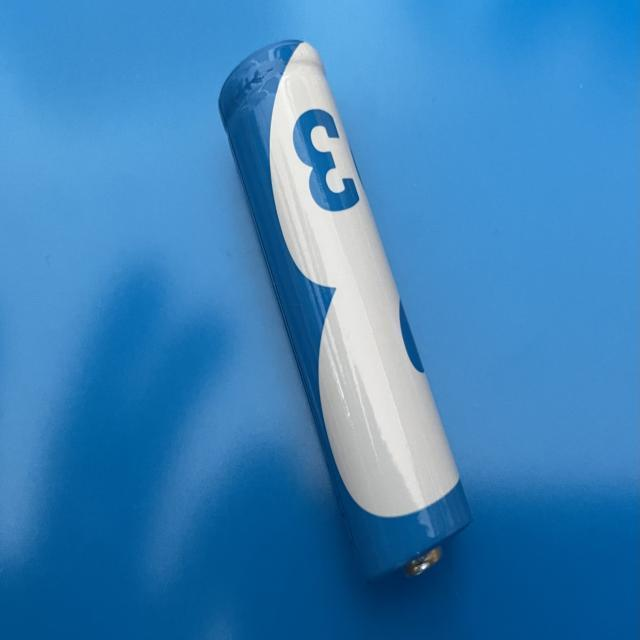AA: (216, 33, 474, 583)
